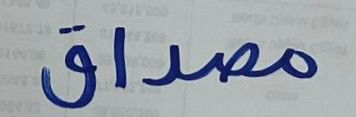alef: (104, 18, 133, 94)
lam: (138, 36, 186, 89)
meem: (269, 32, 321, 88)
qaf: (24, 16, 102, 110)
sad: (190, 29, 266, 90)
